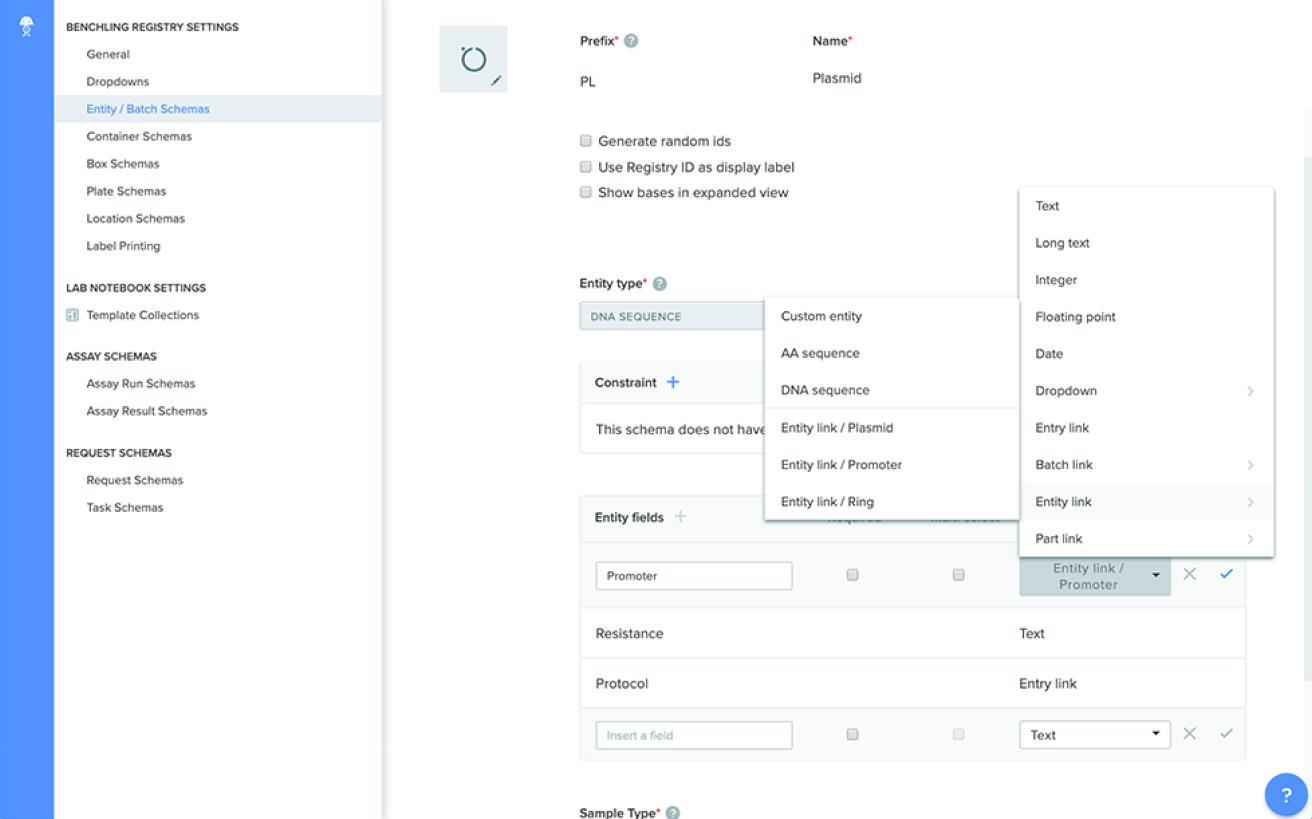checkbox: (848, 568, 860, 584), (954, 569, 967, 583), (955, 728, 968, 742), (847, 729, 860, 742), (580, 186, 592, 200), (581, 136, 594, 148), (581, 162, 593, 175)
dropdown: (1020, 723, 1171, 749)
icon: (671, 508, 690, 529), (1181, 725, 1200, 744), (1181, 567, 1202, 583), (1220, 567, 1236, 582), (1220, 728, 1236, 743), (654, 277, 668, 294), (666, 375, 679, 392), (625, 35, 639, 49)
input: (598, 562, 794, 591), (582, 302, 765, 327)
label: (597, 184, 793, 200), (598, 161, 798, 176), (600, 134, 735, 149), (596, 510, 666, 528), (577, 275, 652, 291), (596, 377, 659, 390), (577, 33, 622, 51), (815, 33, 857, 49)
